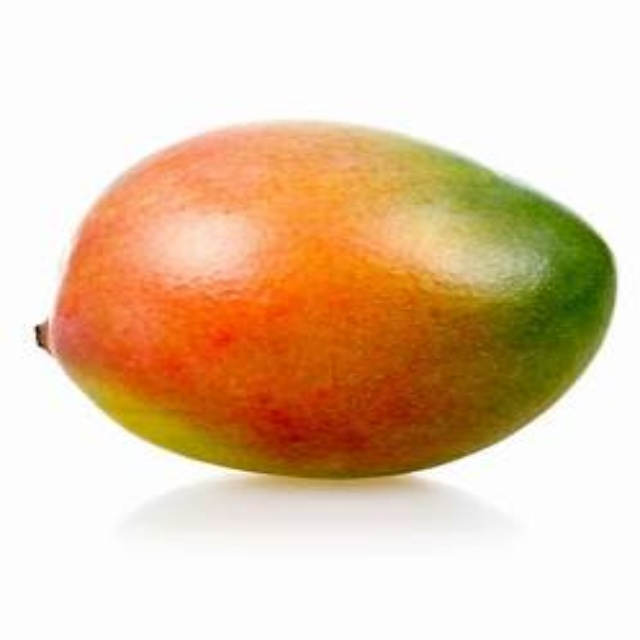mango: (34, 116, 618, 481)
